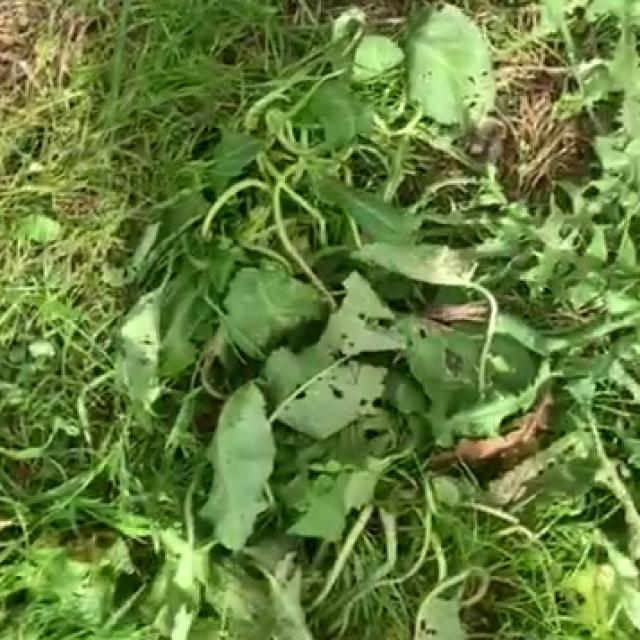organic waste: (86, 174, 592, 574), (99, 64, 462, 334)
